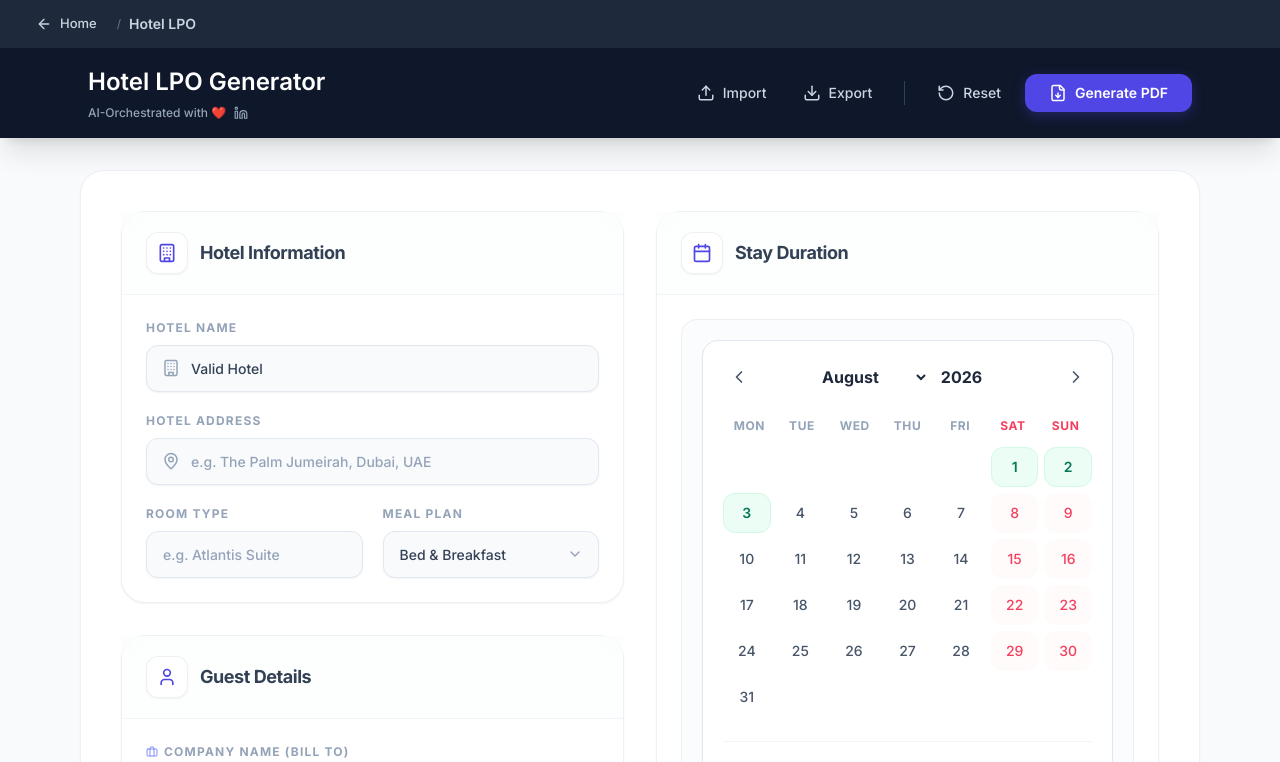
Test: HotelLPOModule › validates rate overlap
What coordinates should you click on to do the following:
click the button titled "Generate PDF"
I would click on:
 (1108, 92)
Its box is [1025,74,1192,112].
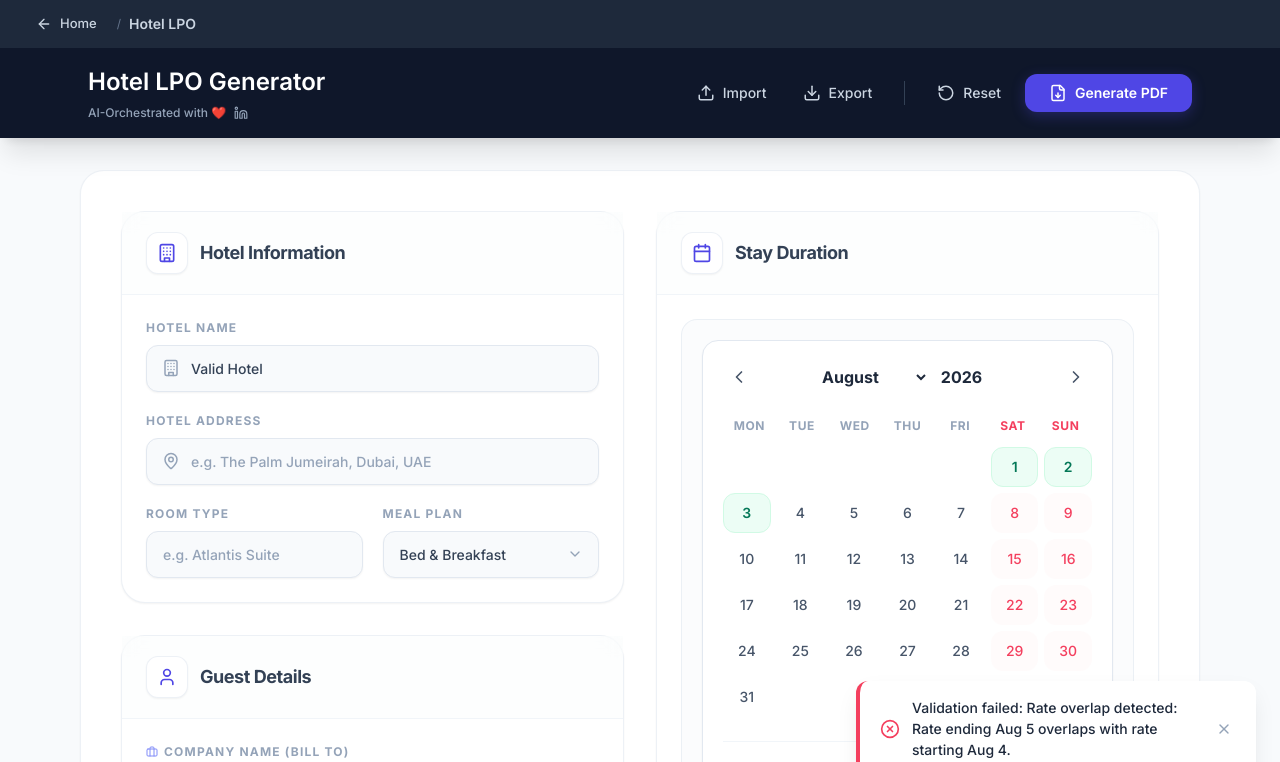
Now the text "Validation failed" is shown, box [912,699,1177,758]
